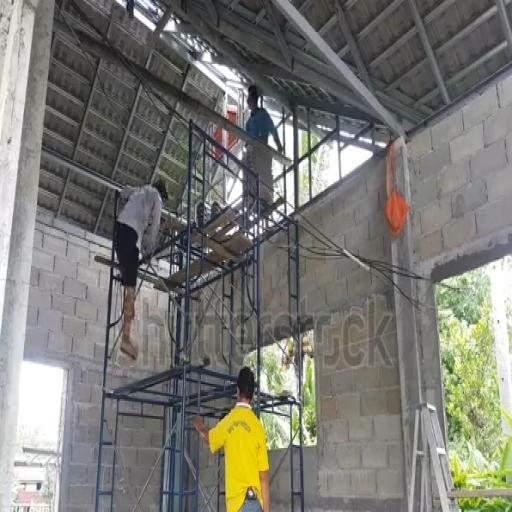Helmet-Detection: (239, 367, 256, 406), (245, 88, 270, 110)
